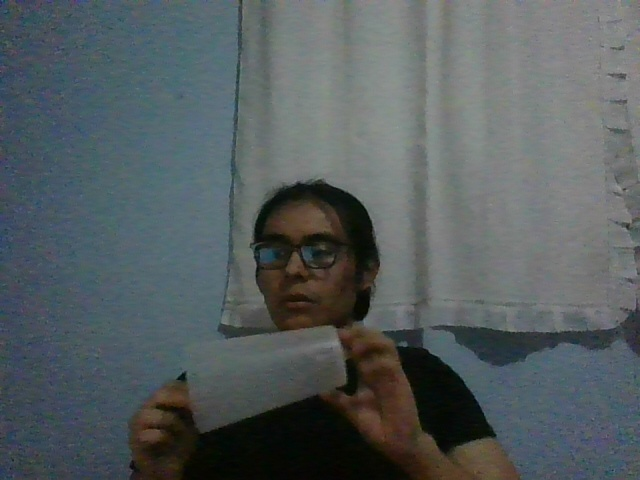vaso: (183, 325, 348, 433)
